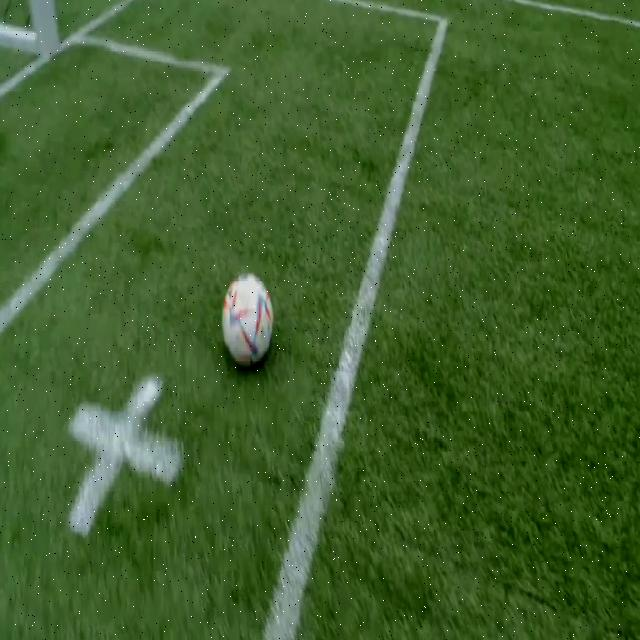ball: (222, 273, 272, 368)
goalpost: (22, 1, 67, 68)
